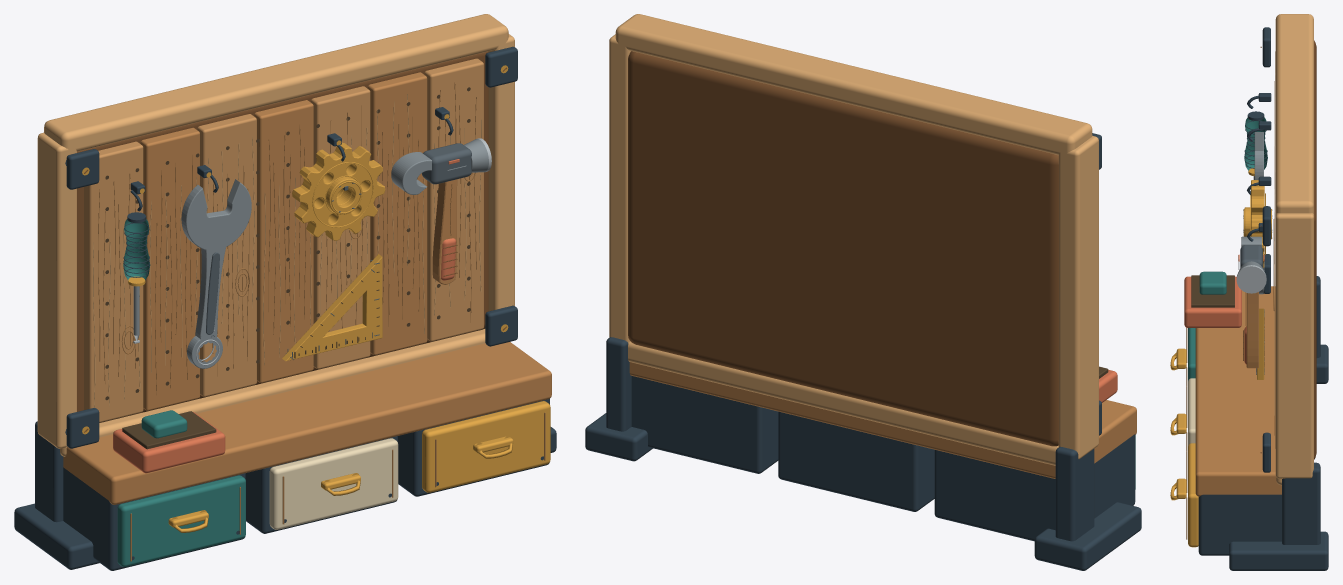
The model's file is workshop-tool-rack-high-no-plants.glb.
3 renders of one model, left to right at view 1: azimuth 30°, elevation 25°; view 2: azimuth 150°, elevation 25°; view 3: azimuth 270°, elevation 25°, orthographic. The views are drawn at different scales.
Visible parts, largest first — view 1: timber, plank, edge, brass, navy, teal, cream, steel, grain, darkWood, grainLight, coral (+2 smaller); view 2: darkWood, edge, navy, timber; view 3: edge, timber, navy, brass, coral, teal, darkWood, shadow, steel, grain, steelEdge, cream (+2 smaller).
Boxes of the visible parts, x1=… form: timber: x1=63, y1=72, x2=551, y2=504; plank: x1=84, y1=58, x2=483, y2=422; edge: x1=37, y1=14, x2=514, y2=456; brass: x1=82, y1=65, x2=550, y2=532; navy: x1=14, y1=46, x2=556, y2=570; teal: x1=117, y1=219, x2=245, y2=566; cream: x1=269, y1=438, x2=398, y2=529; steel: x1=133, y1=139, x2=488, y2=368; grain: x1=98, y1=82, x2=545, y2=561; darkWood: x1=77, y1=51, x2=506, y2=432; grainLight: x1=93, y1=94, x2=481, y2=407; coral: x1=113, y1=159, x2=459, y2=473; darkWood: x1=628, y1=51, x2=1058, y2=446; edge: x1=609, y1=14, x2=1098, y2=465; navy: x1=585, y1=133, x2=1141, y2=570; timber: x1=629, y1=362, x2=1136, y2=478; edge: x1=1275, y1=14, x2=1313, y2=485; timber: x1=1195, y1=75, x2=1281, y2=496; navy: x1=1198, y1=27, x2=1328, y2=570; brass: x1=1170, y1=167, x2=1271, y2=547; coral: x1=1184, y1=254, x2=1264, y2=364; teal: x1=1188, y1=117, x2=1267, y2=380; darkWood: x1=1243, y1=40, x2=1316, y2=459; shadow: x1=1191, y1=275, x2=1264, y2=367; steel: x1=1238, y1=132, x2=1264, y2=294; grain: x1=1186, y1=81, x2=1274, y2=539; steelEdge: x1=1236, y1=265, x2=1266, y2=293; cream: x1=1188, y1=378, x2=1195, y2=445.
Size of the model in its own units: 1.54 by 1.25 by 0.4932.
